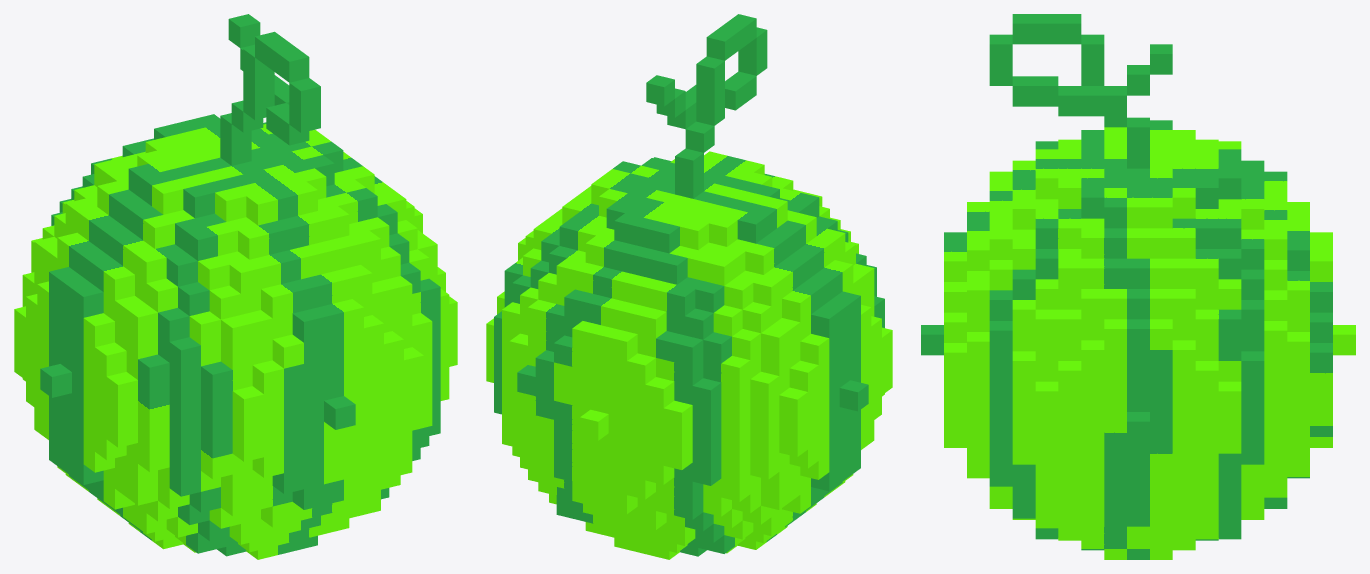
The picture shows the model from 3 angles, left to right: view 1: azimuth 30°, elevation 25°; view 2: azimuth 150°, elevation 25°; view 3: azimuth 270°, elevation 25°; orthographic projection. The views are drawn at different scales.
Visible parts, largest first — view 1: Object; view 2: Object; view 3: Object.
Part boxes in pixels (x1=…): Object: x1=14, y1=14, x2=457, y2=559; Object: x1=486, y1=14, x2=892, y2=559; Object: x1=921, y1=14, x2=1355, y2=559.
Bounding box in the file's own units: 19 × 25 × 19.
Materials: 1 (1 with a texture image).
